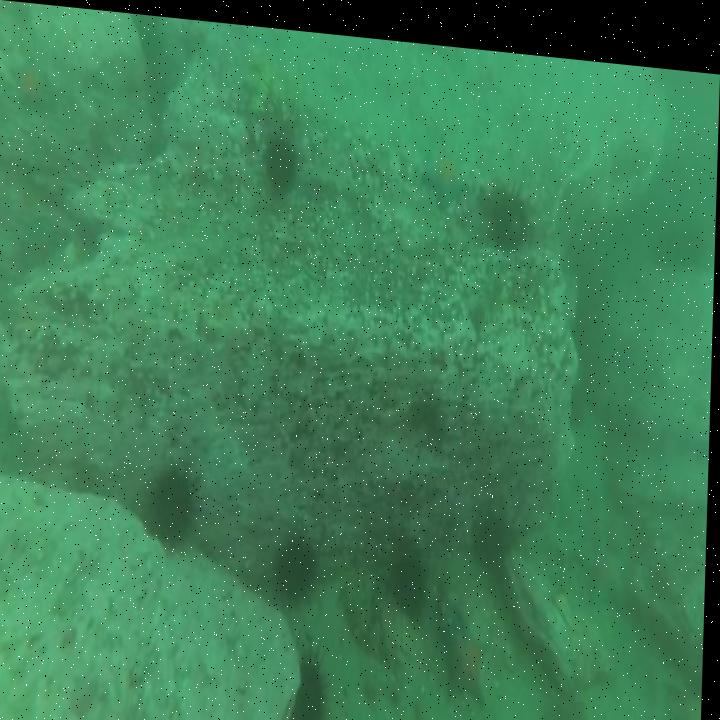echinus: (149, 459, 194, 536), (392, 540, 430, 612), (277, 528, 319, 592), (495, 180, 529, 241), (263, 127, 298, 184), (300, 652, 328, 720), (481, 501, 511, 558)
starfish: (420, 136, 473, 201), (448, 614, 493, 687), (12, 60, 49, 113)
